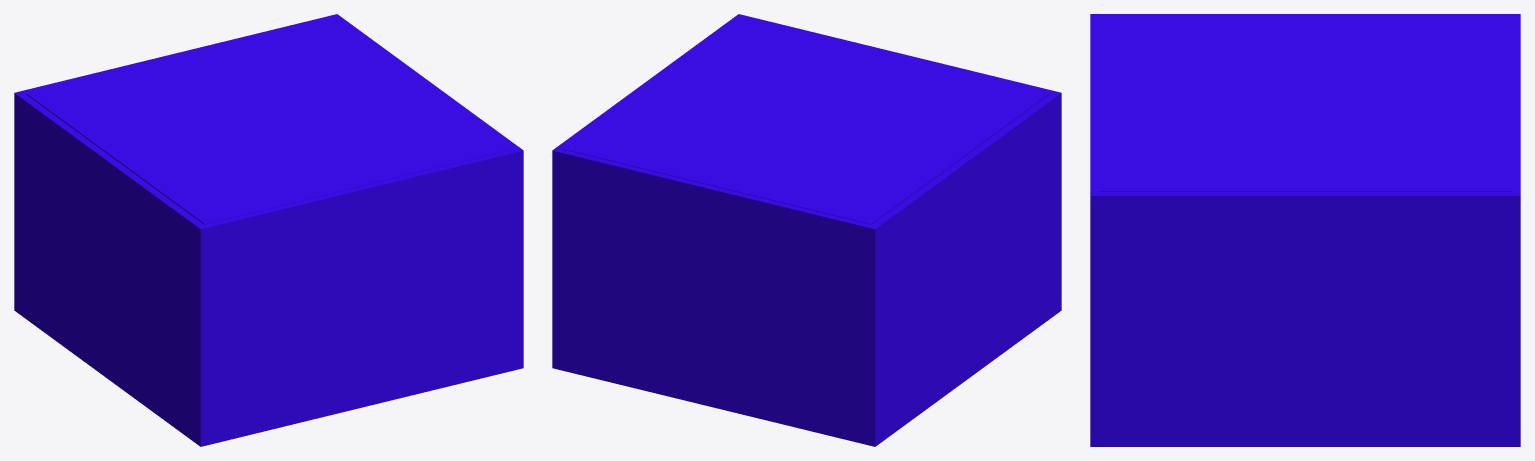
The model's file is office_pack_cardboardBox_small_open_1_meshCollider.fbx.
The picture shows the model from 3 angles, left to right: view 1: azimuth 30°, elevation 25°; view 2: azimuth 150°, elevation 25°; view 3: azimuth 270°, elevation 25°; orthographic projection. The views are drawn at different scales.
Visible parts, largest first — view 1: Office_pack_cardboardBox_small_open_1_meshCollider, Office_pack_cardboardBox_small_open_1_hatch_1_meshCollider, Office_pack_cardboardBox_small_open_1_hatch_2_meshCollider; view 2: Office_pack_cardboardBox_small_open_1_meshCollider, Office_pack_cardboardBox_small_open_1_hatch_2_meshCollider, Office_pack_cardboardBox_small_open_1_hatch_1_meshCollider; view 3: Office_pack_cardboardBox_small_open_1_meshCollider, Office_pack_cardboardBox_small_open_1_hatch_2_meshCollider, Office_pack_cardboardBox_small_open_1_hatch_1_meshCollider.
Part boxes in pixels (x1,y1,x2,y2): Office_pack_cardboardBox_small_open_1_meshCollider: [14, 14, 523, 446]; Office_pack_cardboardBox_small_open_1_hatch_1_meshCollider: [115, 83, 512, 224]; Office_pack_cardboardBox_small_open_1_hatch_2_meshCollider: [26, 18, 423, 159]; Office_pack_cardboardBox_small_open_1_meshCollider: [552, 14, 1061, 446]; Office_pack_cardboardBox_small_open_1_hatch_2_meshCollider: [563, 83, 960, 224]; Office_pack_cardboardBox_small_open_1_hatch_1_meshCollider: [652, 18, 1049, 159]; Office_pack_cardboardBox_small_open_1_meshCollider: [1090, 14, 1520, 446]; Office_pack_cardboardBox_small_open_1_hatch_2_meshCollider: [1305, 18, 1511, 191]; Office_pack_cardboardBox_small_open_1_hatch_1_meshCollider: [1099, 18, 1305, 191].
Bounding box in the file's own units: 25 × 16.14 × 25.
